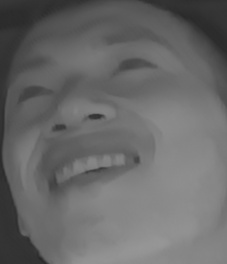eye: (107, 48, 159, 81), (12, 80, 54, 104)
mouth: (35, 133, 150, 200)
